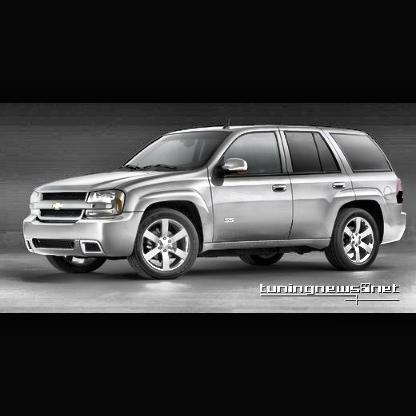Chevrolet TrailBlazer SS 2009: (24, 119, 408, 282)
